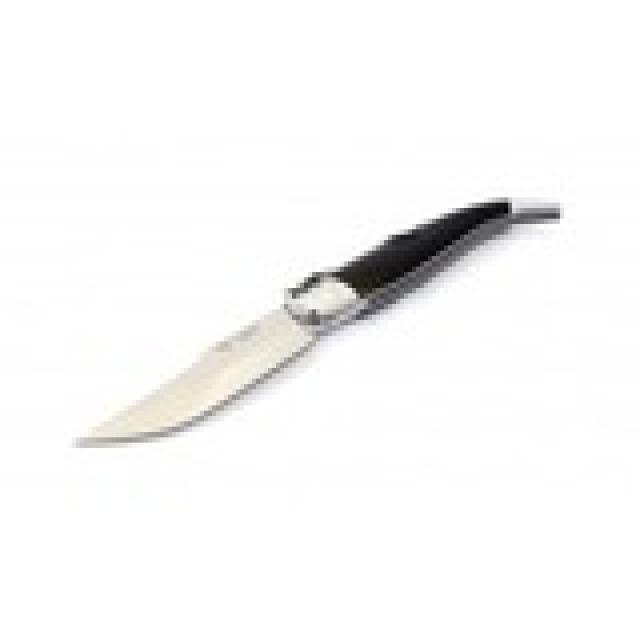Knife: (55, 188, 570, 483)
